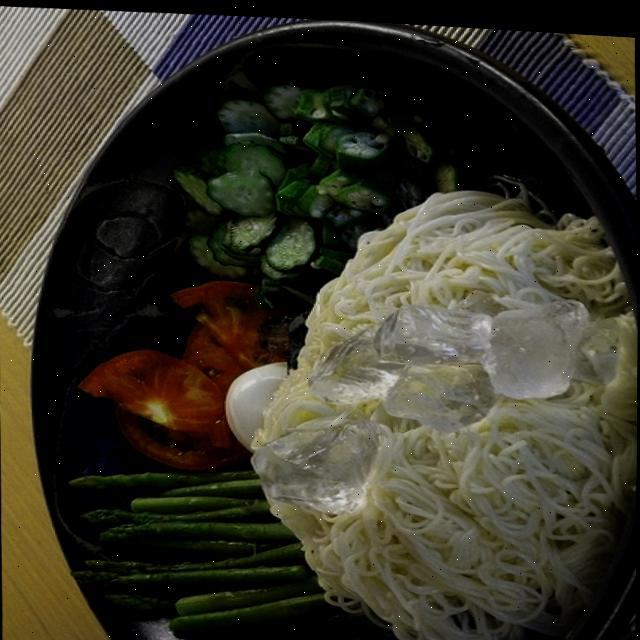面条主食: (17, 4, 640, 640)
